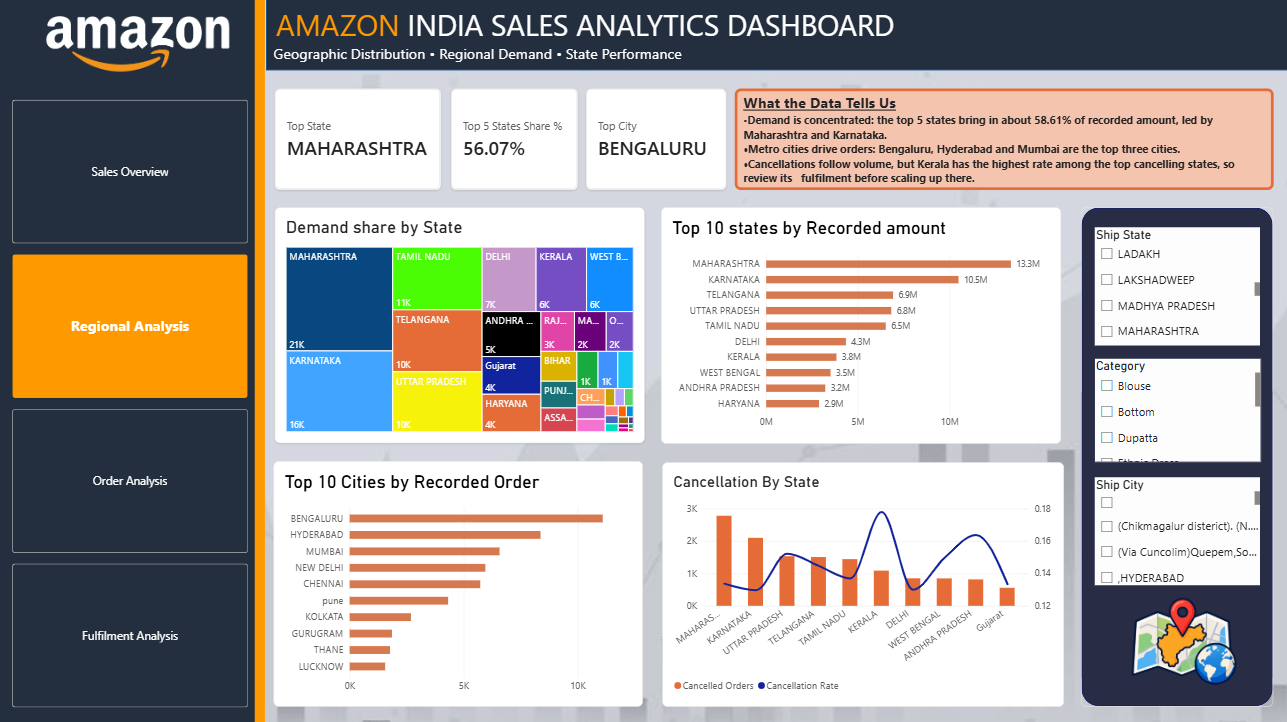

Layout of this report page (visuals, bound fields, positions):
{"tool":"powerbi","page":{"name":"Regional Analysis","canvas":[1920,1080],"ordinal":1},"visuals":[{"type":"shape","box":[0,0,396.7,1080],"z":0},{"type":"shape","box":[382.5,0,15,1080],"z":1000},{"type":"image","box":[24,30,372,82],"z":2000},{"type":"shape","box":[400,0,1520,110],"z":3000},{"type":"textbox","box":[411.8,13.7,923.5,78.4],"z":4000},{"type":"textbox","box":[411.8,70.6,1145.1,41.2],"z":5000},{"type":"pageNavigator","box":[23.5,152.9,349,902],"z":6000},{"type":"cardVisual","title":"Total recorded amount","fields":{"Data":["amazon_sales_mysql_ready_v3.Top State"]},"box":[412.6,137.5,246.1,150.2],"z":7000},{"type":"cardVisual","fields":{"Data":["amazon_sales_mysql_ready_v3.Top City"]},"box":[874.1,137.5,208.1,150.2],"z":8000},{"type":"cardVisual","fields":{"Data":["amazon_sales_mysql_ready_v3.Top 5 States Share %"]},"box":[673.2,137.5,188.2,150.2],"z":9000},{"type":"treemap","title":"Demand share by State","fields":{"Group":["amazon_sales_mysql_ready_v3.ship_state"],"Values":["amazon_sales_mysql_ready_v3.Total Orders"]},"box":[412.6,313.1,548.3,349.3],"z":10000},{"type":"clusteredBarChart","title":"Top 10 states by Recorded amount","fields":{"Category":["amazon_sales_mysql_ready_v3.ship_state"],"Y":["amazon_sales_mysql_ready_v3.Total recorded amount"]},"box":[985,312.5,592.5,350],"z":11000},{"type":"clusteredBarChart","title":"Top 10 Cities by Recorded Order","fields":{"Category":["amazon_sales_mysql_ready_v3.ship_city"],"Y":["amazon_sales_mysql_ready_v3.Total Orders"]},"box":[411.7,689.5,547.5,364.3],"z":12000},{"type":"lineClusteredColumnComboChart","title":"Cancellation By State","fields":{"Category":["amazon_sales_mysql_ready_v3.ship_state"],"Y":["amazon_sales_mysql_ready_v3.Cancelled Orders"],"Y2":["amazon_sales_mysql_ready_v3.Cancellation Rate"]},"box":[987.5,690,595,362.5],"z":13000},{"type":"shape","box":[1607.5,312.5,285,740],"z":14000},{"type":"slicer","title":"Ship State","fields":{"Values":["amazon_sales_mysql_ready_v3.ship_state"]},"box":[1626.9,342,245,175],"z":15000},{"type":"slicer","title":"Ship City","fields":{"Values":["amazon_sales_mysql_ready_v3.ship_city"]},"box":[1626.9,713,245,160],"z":16000},{"type":"slicer","title":"Category","fields":{"Values":["amazon_sales_mysql_ready_v3.category"]},"box":[1626.9,537.5,245.7,152.9],"z":17000},{"type":"textbox","box":[1094.8,137.5,798.1,150.2],"z":18000},{"type":"image","box":[1608,858,300,196],"z":19000}]}

Visuals, with their boxes on the page's 1920x1080 design canvas (x1, y1, x2, y2). These are canvas units, not pixel positions in the 1287x722 screenshot, which may show the page scaled, cropped or inside an application window:
shape: (x1=0, y1=0, x2=397, y2=1080)
shape: (x1=382, y1=0, x2=398, y2=1080)
image: (x1=24, y1=30, x2=396, y2=112)
shape: (x1=400, y1=0, x2=1920, y2=110)
textbox: (x1=412, y1=14, x2=1335, y2=92)
textbox: (x1=412, y1=71, x2=1557, y2=112)
pageNavigator: (x1=24, y1=153, x2=372, y2=1055)
"Total recorded amount" cardVisual: (x1=413, y1=138, x2=659, y2=288)
cardVisual - amazon_sales_mysql_ready_v3.Top City: (x1=874, y1=138, x2=1082, y2=288)
cardVisual - amazon_sales_mysql_ready_v3.Top 5 States Share %: (x1=673, y1=138, x2=861, y2=288)
"Demand share by State" treemap: (x1=413, y1=313, x2=961, y2=662)
"Top 10 states by Recorded amount" clusteredBarChart: (x1=985, y1=312, x2=1578, y2=662)
"Top 10 Cities by Recorded Order" clusteredBarChart: (x1=412, y1=690, x2=959, y2=1054)
"Cancellation By State" lineClusteredColumnComboChart: (x1=988, y1=690, x2=1582, y2=1052)
shape: (x1=1608, y1=312, x2=1892, y2=1052)
"Ship State" slicer: (x1=1627, y1=342, x2=1872, y2=517)
"Ship City" slicer: (x1=1627, y1=713, x2=1872, y2=873)
"Category" slicer: (x1=1627, y1=538, x2=1873, y2=690)
textbox: (x1=1095, y1=138, x2=1893, y2=288)
image: (x1=1608, y1=858, x2=1908, y2=1054)
